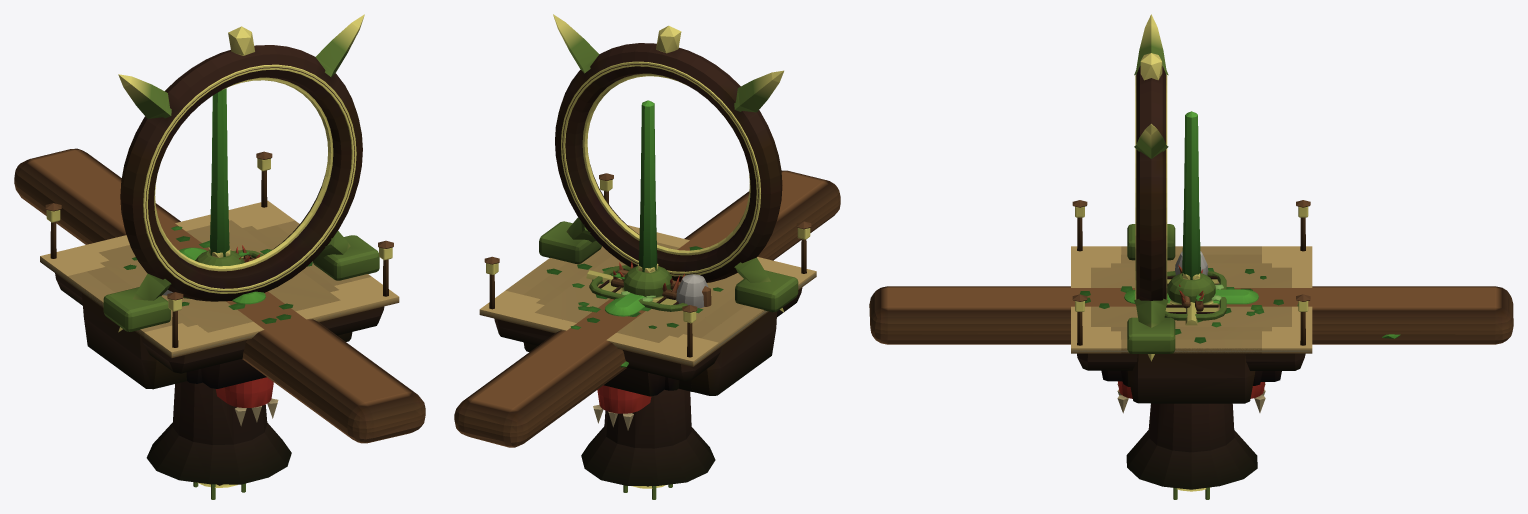
The model's file is swamp-1-DZ6ce2Mb.glb.
3 views of the same model, side by side, from view 1: azimuth 30°, elevation 25°; view 2: azimuth 150°, elevation 25°; view 3: azimuth 270°, elevation 25° (orthographic). The views are drawn at different scales.
Visible parts, largest first — view 1: portal_#0, pad_12x2x12#0, beam_4x2x32#0, block_7x2x10#0, block_12x2x7#0, press_2.5x6x7.5#0, block_8x2x8#0, block_10x2x7#0, barHub_7.2x1.2#0; view 2: portal_#0, pad_12x2x12#0, beam_4x2x32#0, block_12x2x7#0, block_7x2x10#0, press_2.5x6x7.5#0, block_10x2x7#0, block_8x2x8#0, barHub_7.2x1.2#0, jetVent_5x3#0, boltPost_#0, burner_3.8x1.2x2#0; view 3: beam_4x2x32#0, pad_12x2x12#0, portal_#0, block_12x2x7#0, block_7x2x10#0, press_2.5x6x7.5#0, block_10x2x7#0, barHub_7.2x1.2#0, block_8x2x8#0, jetVent_5x3#0.
Boxes of the visible parts, box(x1,y1,x2,y2) form: portal_#0: box(103, 14, 379, 332); pad_12x2x12#0: box(40, 151, 399, 484); beam_4x2x32#0: box(14, 148, 425, 443); block_7x2x10#0: box(99, 220, 340, 388); block_12x2x7#0: box(68, 220, 371, 389); press_2.5x6x7.5#0: box(179, 88, 278, 426); block_8x2x8#0: box(100, 226, 338, 383); block_10x2x7#0: box(87, 225, 352, 327); barHub_7.2x1.2#0: box(195, 248, 244, 266); portal_#0: box(539, 14, 798, 312); pad_12x2x12#0: box(479, 173, 816, 485); beam_4x2x32#0: box(454, 170, 840, 447); block_12x2x7#0: box(505, 258, 776, 395); block_7x2x10#0: box(535, 242, 743, 396); press_2.5x6x7.5#0: box(593, 100, 673, 430); block_10x2x7#0: box(523, 246, 745, 391); block_8x2x8#0: box(536, 251, 735, 390); barHub_7.2x1.2#0: box(586, 263, 672, 300); jetVent_5x3#0: box(589, 265, 687, 311); boltPost_#0: box(676, 274, 711, 308); burner_3.8x1.2x2#0: box(611, 261, 684, 299); beam_4x2x32#0: box(869, 286, 1513, 344); pad_12x2x12#0: box(1071, 200, 1312, 489); portal_#0: box(1127, 14, 1175, 361); block_12x2x7#0: box(1121, 246, 1261, 403); block_7x2x10#0: box(1091, 267, 1291, 381); press_2.5x6x7.5#0: box(1117, 111, 1265, 413); block_10x2x7#0: box(1121, 254, 1261, 339); barHub_7.2x1.2#0: box(1167, 273, 1215, 325); block_8x2x8#0: box(1111, 263, 1271, 386); jetVent_5x3#0: box(1164, 271, 1226, 320).
Size of the model in its own units: 13.4 by 24.1 by 32.02.
